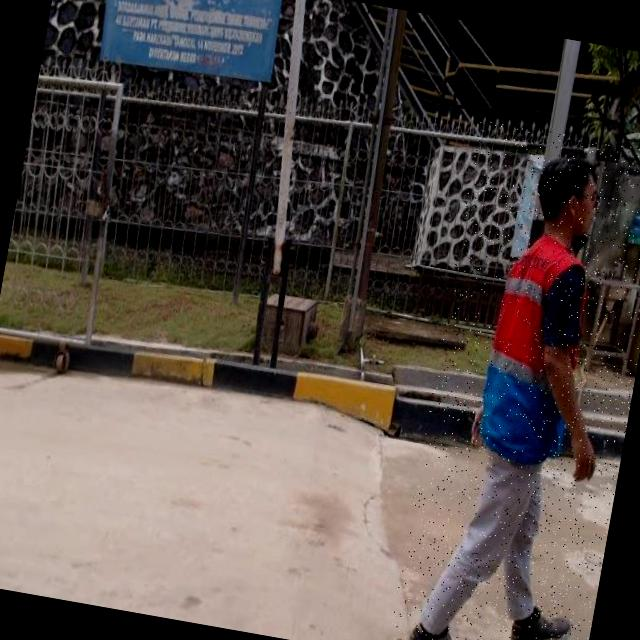boots: (502, 602, 573, 640), (396, 615, 479, 640)
no-gloves: (558, 422, 604, 484)
no-helmet: (531, 155, 609, 241)
vest: (471, 228, 602, 471)
